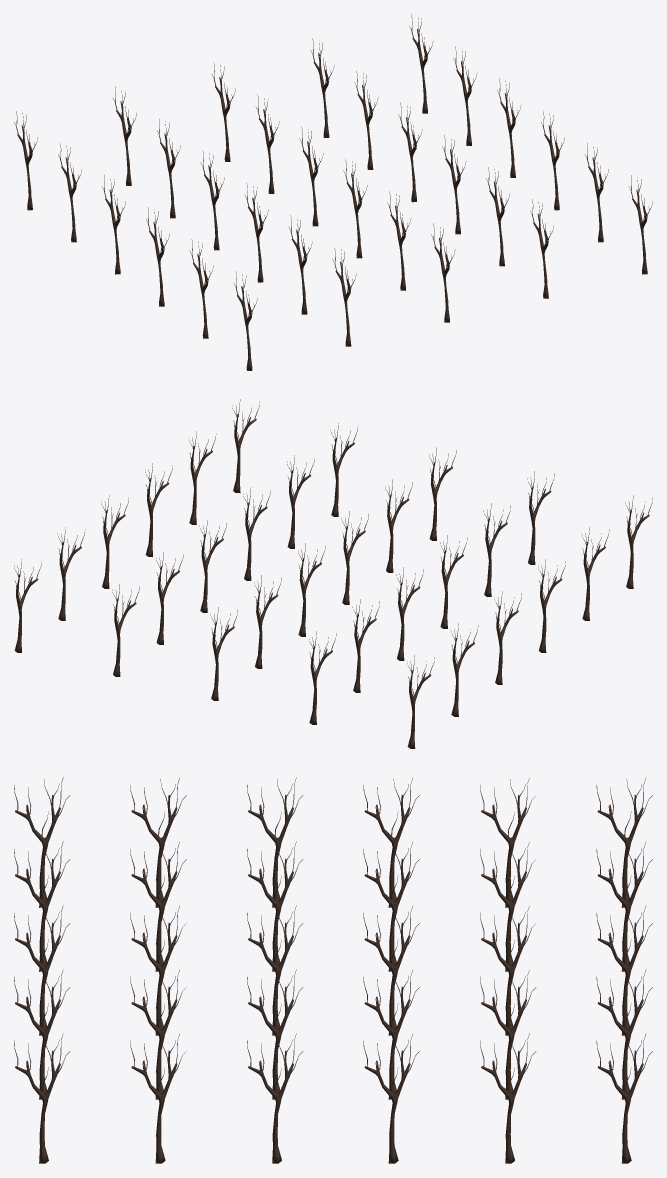
The model's file is Y3Winter.fbx.
3 views of the same model, one above another, from view 1: azimuth 30°, elevation 25°; view 2: azimuth 150°, elevation 25°; view 3: azimuth 270°, elevation 25° (orthographic). The views are drawn at different scales.
Parts seen in each view (by area): view 1: Y3Winter; view 2: Y3Winter; view 3: Y3Winter.
Part boxes in pixels (bbox=[...]): Y3Winter: bbox=[14, 14, 652, 370]; Y3Winter: bbox=[14, 399, 652, 748]; Y3Winter: bbox=[14, 777, 652, 1163].
Bounding box in the file's own units: 300 × 66.45 × 305.
